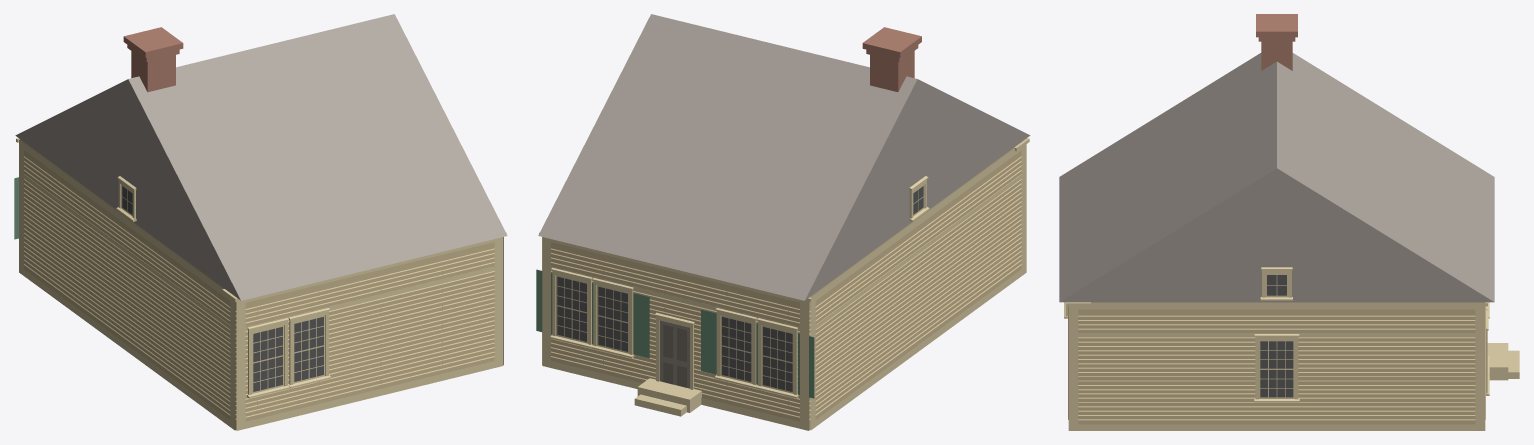
The model's file is recon_1835_blk_school_section_tier_94_h1_06__inferred_1835.glb.
The picture shows the model from 3 angles, left to right: view 1: azimuth 30°, elevation 25°; view 2: azimuth 150°, elevation 25°; view 3: azimuth 270°, elevation 25°; orthographic projection. The views are drawn at different scales.
Parts seen in each view (by area): view 1: recon_1835_blk_school_section_tier_94_h1_06__inferred_1835; view 2: recon_1835_blk_school_section_tier_94_h1_06__inferred_1835; view 3: recon_1835_blk_school_section_tier_94_h1_06__inferred_1835.
Part boxes in pixels (x1=…): recon_1835_blk_school_section_tier_94_h1_06__inferred_1835: x1=14, y1=14, x2=507, y2=430; recon_1835_blk_school_section_tier_94_h1_06__inferred_1835: x1=536, y1=14, x2=1030, y2=430; recon_1835_blk_school_section_tier_94_h1_06__inferred_1835: x1=1059, y1=14, x2=1519, y2=430.
Bounding box in the file's own units: 8.24 × 8.66 × 12.27.
